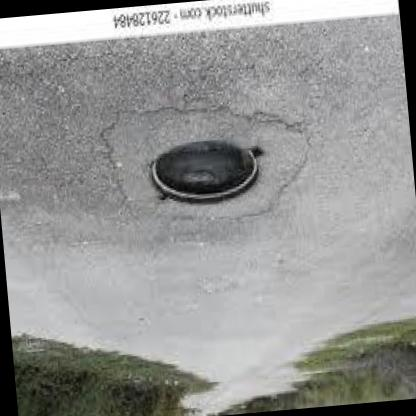manholes: (126, 98, 286, 230)
